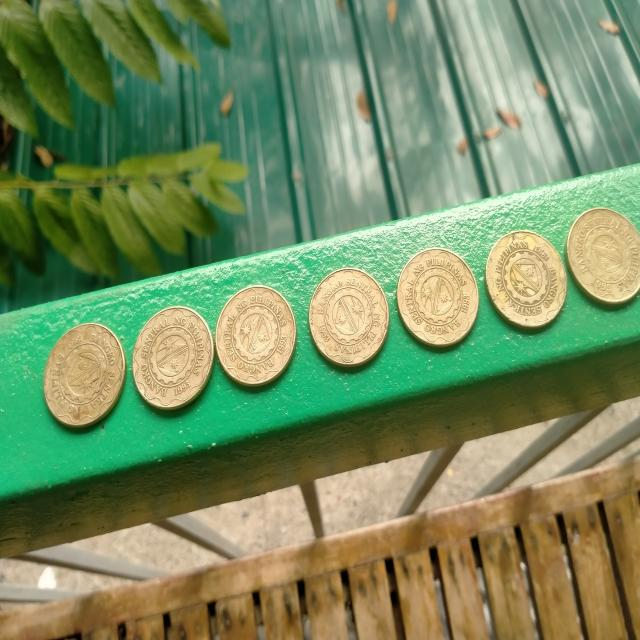5_Old_Back: (46, 324, 119, 416), (317, 273, 382, 365)
